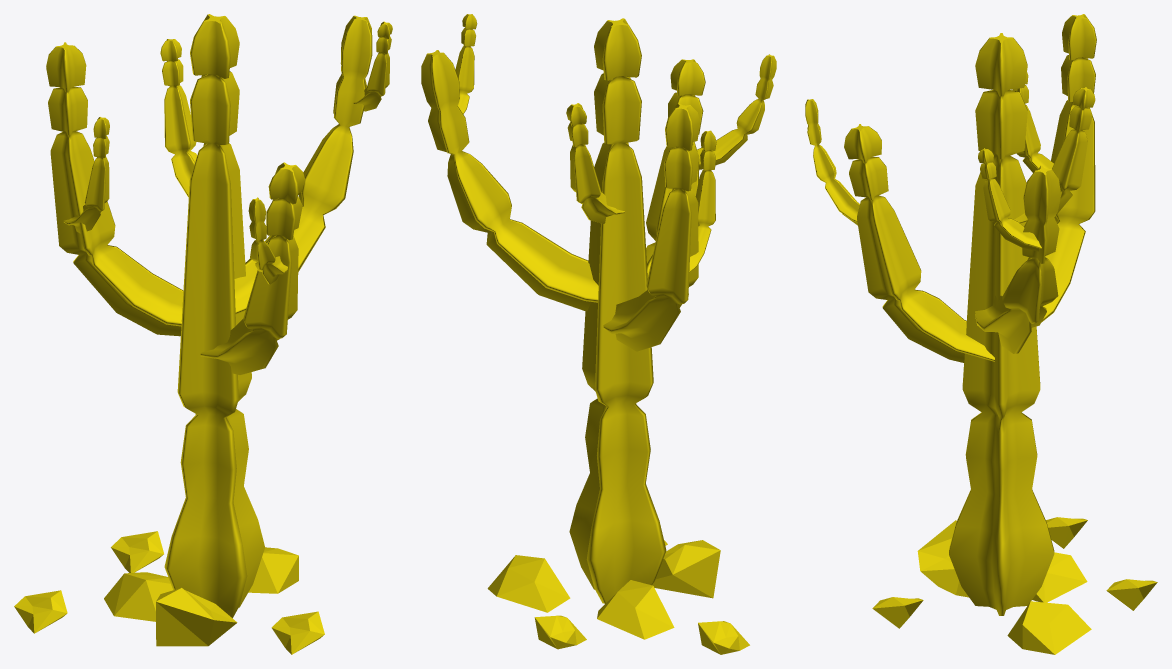
The model's file is Envi_Cactus_Tall_01_v01.fbx.
3 views of the same model, side by side, from view 1: azimuth 30°, elevation 25°; view 2: azimuth 150°, elevation 25°; view 3: azimuth 270°, elevation 25° (orthographic). The views are drawn at different scales.
Parts seen in each view (by area): view 1: Truck_Ex_Set03_CactusCenter_02, Truck_Ex_Set03_CactusMid_04, Truck_Ex_Set03_CactusMid_06, Truck_Ex_Set03_CactusMid_05, Truck_Ex_Set03_RockCactus_Small_20, Truck_Ex_Set03_CactusTop_07, Truck_Ex_Set03_RockCactus_Small_21, Truck_Ex_Set03_CactusTop_08, Truck_Ex_Set03_RockCactus_Small_19, Truck_Ex_Set03_CactusTop_06, Truck_Ex_Set03_CactusTop_05, Truck_Ex_Set03_RockCactus_Small_22 (+2 smaller); view 2: Truck_Ex_Set03_CactusCenter_02, Truck_Ex_Set03_CactusMid_06, Truck_Ex_Set03_CactusMid_04, Truck_Ex_Set03_RockCactus_Small_19, Truck_Ex_Set03_RockCactus_Small_20, Truck_Ex_Set03_RockCactus_Small_21, Truck_Ex_Set03_CactusMid_05, Truck_Ex_Set03_CactusTop_07, Truck_Ex_Set03_CactusTop_06, Truck_Ex_Set03_CactusTop_08, Truck_Ex_Set03_CactusTop_05, Truck_Ex_Set03_RockCactus_Small_18 (+1 smaller); view 3: Truck_Ex_Set03_CactusCenter_02, Truck_Ex_Set03_CactusMid_05, Truck_Ex_Set03_CactusMid_06, Truck_Ex_Set03_CactusMid_04, Truck_Ex_Set03_RockCactus_Small_19, Truck_Ex_Set03_CactusTop_07, Truck_Ex_Set03_CactusTop_05, Truck_Ex_Set03_CactusTop_06, Truck_Ex_Set03_RockCactus_Small_20, Truck_Ex_Set03_RockCactus_Small_21, Truck_Ex_Set03_CactusTop_08, Truck_Ex_Set03_RockCactus_Small_22 (+2 smaller).
Boxes of the visible parts, x1,y1,x2,y2 form: Truck_Ex_Set03_CactusCenter_02: (164,14,265,618); Truck_Ex_Set03_CactusMid_04: (46,42,183,336); Truck_Ex_Set03_CactusMid_06: (234,15,372,314); Truck_Ex_Set03_CactusMid_05: (200,162,305,374); Truck_Ex_Set03_RockCactus_Small_20: (156,588,237,646); Truck_Ex_Set03_CactusTop_07: (160,39,197,197); Truck_Ex_Set03_RockCactus_Small_21: (104,572,172,621); Truck_Ex_Set03_CactusTop_08: (63,117,109,233); Truck_Ex_Set03_RockCactus_Small_19: (248,547,298,593); Truck_Ex_Set03_CactusTop_06: (248,197,287,284); Truck_Ex_Set03_CactusTop_05: (353,21,392,111); Truck_Ex_Set03_RockCactus_Small_22: (271,611,324,654); Truck_Ex_Set03_CactusCenter_02: (569,18,666,603); Truck_Ex_Set03_CactusMid_06: (421,50,598,311); Truck_Ex_Set03_CactusMid_04: (603,103,700,351); Truck_Ex_Set03_RockCactus_Small_19: (487,555,570,612); Truck_Ex_Set03_RockCactus_Small_20: (652,540,720,598); Truck_Ex_Set03_RockCactus_Small_21: (597,580,674,639); Truck_Ex_Set03_CactusMid_05: (646,59,705,277); Truck_Ex_Set03_CactusTop_07: (566,103,624,223); Truck_Ex_Set03_CactusTop_06: (697,54,776,169); Truck_Ex_Set03_CactusTop_08: (689,130,716,272); Truck_Ex_Set03_CactusTop_05: (455,14,477,114); Truck_Ex_Set03_RockCactus_Small_18: (698,621,749,654); Truck_Ex_Set03_CactusCenter_02: (949,33,1054,615); Truck_Ex_Set03_CactusMid_05: (844,124,994,362); Truck_Ex_Set03_CactusMid_06: (975,165,1060,353); Truck_Ex_Set03_CactusMid_04: (1041,14,1096,322); Truck_Ex_Set03_RockCactus_Small_19: (1007,601,1091,654); Truck_Ex_Set03_CactusTop_07: (1014,87,1095,223); Truck_Ex_Set03_CactusTop_05: (978,148,1041,251); Truck_Ex_Set03_CactusTop_06: (805,99,859,225); Truck_Ex_Set03_RockCactus_Small_20: (917,520,968,597); Truck_Ex_Set03_RockCactus_Small_21: (1032,552,1087,602); Truck_Ex_Set03_CactusTop_08: (1012,72,1053,172); Truck_Ex_Set03_RockCactus_Small_22: (872,597,923,628).
Size of the model in its own units: 16.23 by 27.13 by 15.29.
